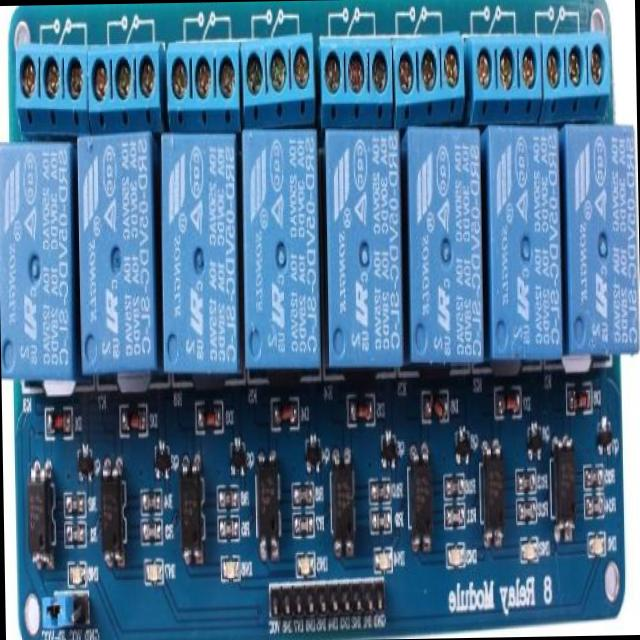IC: (479, 449, 507, 540), (99, 472, 128, 555), (408, 451, 433, 546), (26, 472, 54, 556), (553, 440, 577, 536), (180, 462, 203, 558), (329, 456, 354, 544), (256, 458, 280, 548)
LED: (144, 558, 164, 589), (519, 539, 538, 565), (588, 530, 606, 556), (296, 552, 314, 578), (372, 547, 394, 567), (222, 560, 240, 583), (446, 546, 464, 566), (69, 567, 85, 587)
connector: (163, 33, 242, 130), (86, 32, 165, 126), (318, 32, 393, 128), (9, 34, 84, 130), (238, 28, 314, 122), (270, 572, 386, 632), (466, 30, 540, 119), (540, 26, 610, 118), (391, 35, 464, 122), (40, 596, 90, 638)
diode: (195, 402, 222, 436), (493, 391, 522, 422), (565, 380, 590, 414), (422, 392, 448, 424), (122, 403, 148, 435), (46, 408, 72, 440), (270, 401, 296, 428), (348, 404, 374, 430)
resistor: (218, 480, 237, 511), (142, 487, 160, 518), (66, 516, 84, 544), (220, 513, 238, 539), (140, 520, 158, 546), (66, 491, 84, 517), (294, 487, 312, 510), (296, 510, 310, 538), (586, 491, 602, 514), (374, 506, 389, 530), (587, 465, 602, 488), (444, 508, 462, 527), (518, 469, 534, 489), (520, 498, 532, 524), (371, 482, 386, 502), (447, 476, 462, 494)
transistor: (596, 410, 615, 456), (305, 430, 323, 476), (525, 422, 546, 459), (229, 436, 247, 478), (380, 430, 398, 470), (78, 445, 95, 480), (455, 426, 470, 464), (155, 444, 170, 479)
